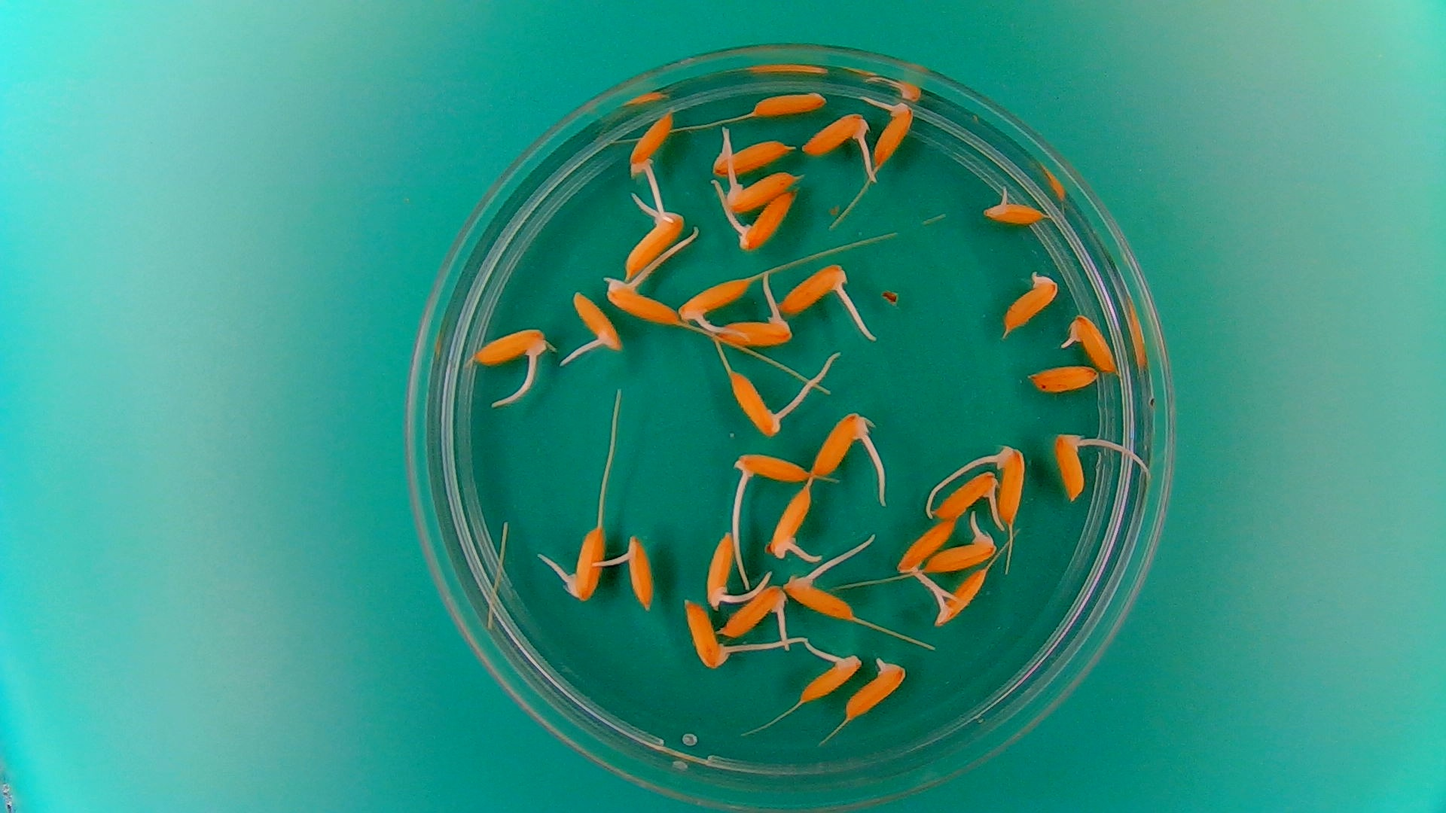no: (746, 84, 830, 119), (1026, 362, 1100, 396)
yes: (622, 192, 688, 278), (809, 407, 879, 478), (782, 559, 859, 622), (776, 260, 855, 316), (602, 272, 682, 327), (728, 190, 798, 252), (999, 266, 1061, 336), (977, 440, 1027, 525), (844, 654, 909, 719), (891, 515, 959, 577), (676, 273, 753, 327), (764, 483, 817, 561), (718, 584, 790, 641), (727, 372, 786, 440), (708, 132, 795, 178), (928, 565, 991, 627), (923, 522, 998, 574), (799, 110, 874, 162), (682, 598, 734, 672), (929, 467, 1001, 520), (798, 647, 863, 705), (1059, 311, 1118, 374), (569, 288, 624, 355), (712, 306, 795, 350), (560, 522, 607, 599), (626, 107, 678, 173), (728, 449, 812, 489), (871, 96, 917, 169), (724, 170, 795, 216), (470, 324, 550, 364), (702, 528, 738, 610), (978, 186, 1051, 226), (1052, 434, 1092, 504), (624, 532, 656, 613)
